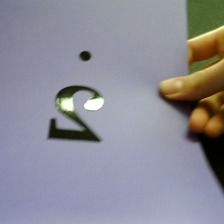violet2: (40, 47, 112, 150)
